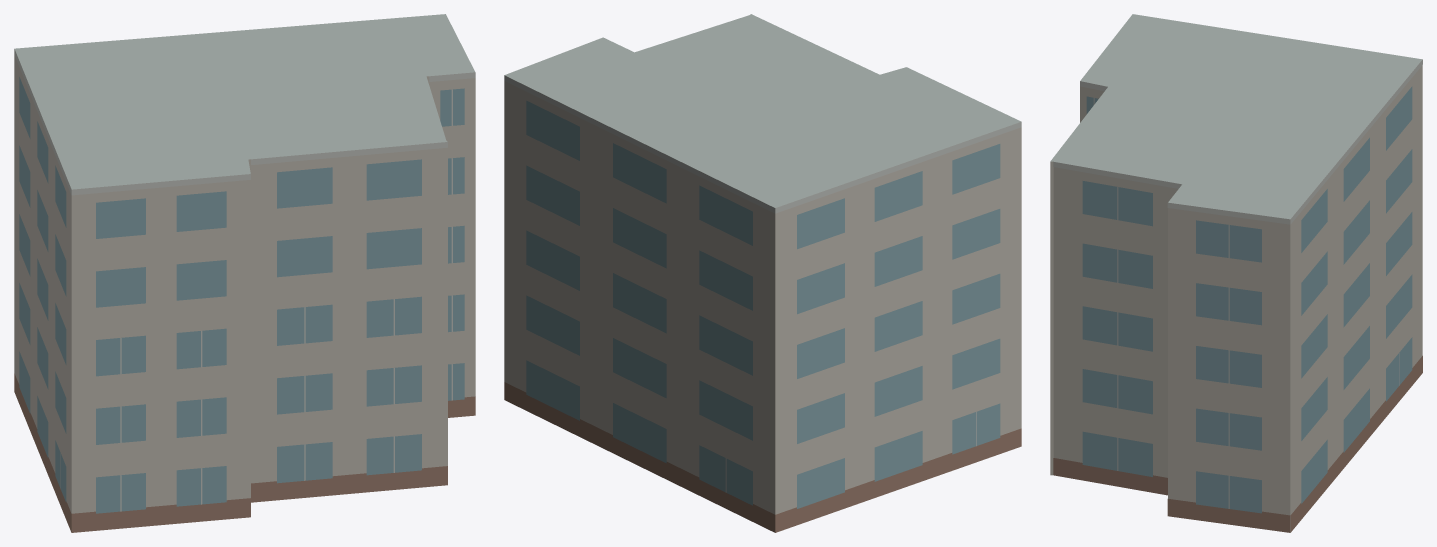
File: survey-upis-32847969.glb
3 views of the same model, side by side, from view 1: azimuth 30°, elevation 25°; view 2: azimuth 150°, elevation 25°; view 3: azimuth 270°, elevation 25° (orthographic). The views are drawn at different scales.
Visible parts, largest first — view 1: survey-upis-32847969.tmp; view 2: survey-upis-32847969.tmp; view 3: survey-upis-32847969.tmp.
Boxes of the visible parts, bbox=[...] form: survey-upis-32847969.tmp: bbox=[14, 14, 475, 532]; survey-upis-32847969.tmp: bbox=[504, 14, 1021, 532]; survey-upis-32847969.tmp: bbox=[1050, 14, 1422, 532].
Bounding box in the file's own units: 20.23 × 14.4 × 15.52.
